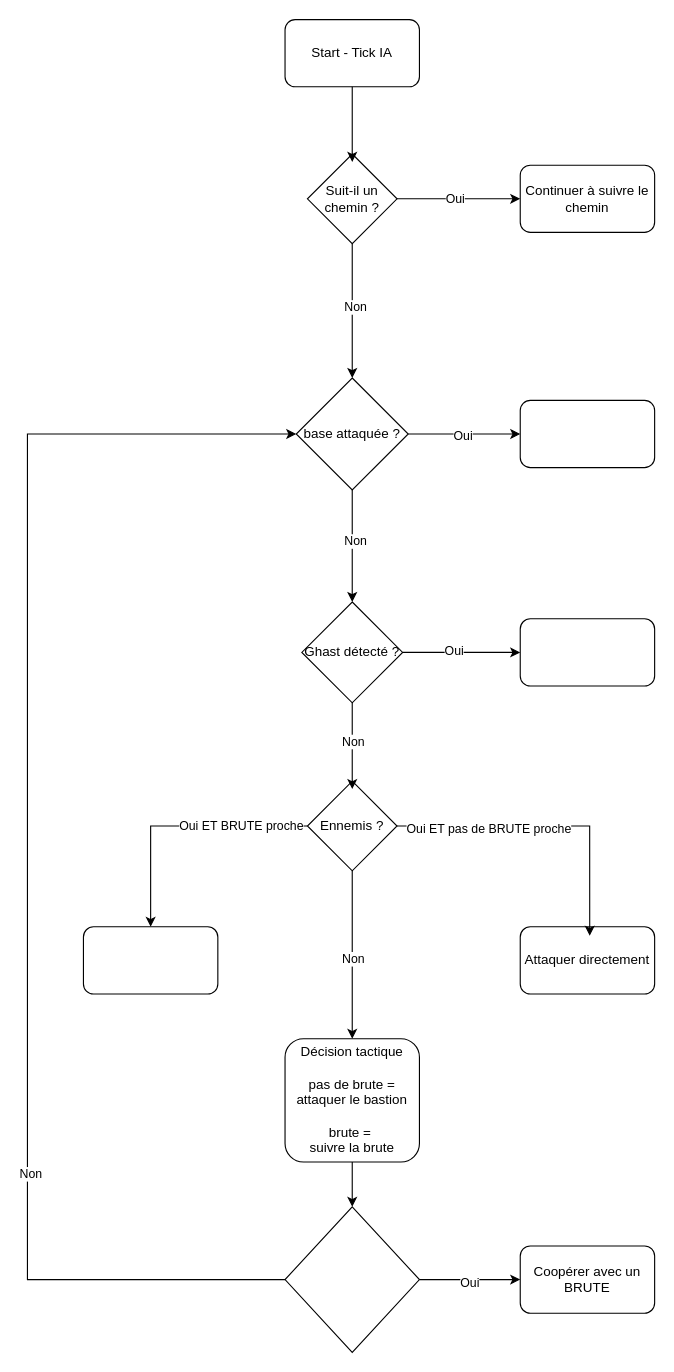
Image size: 674x1372. Some labels were removed from this diagram. Here are the shapes that lost their labels. From the top down, the centre of each, then its label:
pixel 587 433: Défendre la base
pixel 587 652: Se concentrer sur le GHAST
pixel 150 960: Appliquer la logique BRUTE
pixel 351 1279: BRUTE allié en combat à proximité ?
